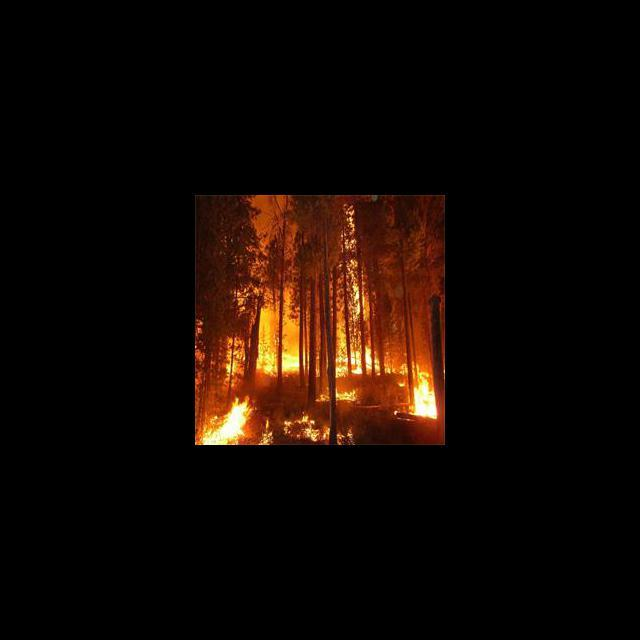Fire: (195, 385, 251, 444), (338, 287, 372, 373), (280, 408, 328, 441), (259, 310, 278, 381), (415, 371, 437, 420), (228, 340, 244, 377), (257, 418, 277, 444), (337, 419, 357, 444), (336, 382, 357, 403), (284, 343, 298, 374), (316, 384, 329, 404)
